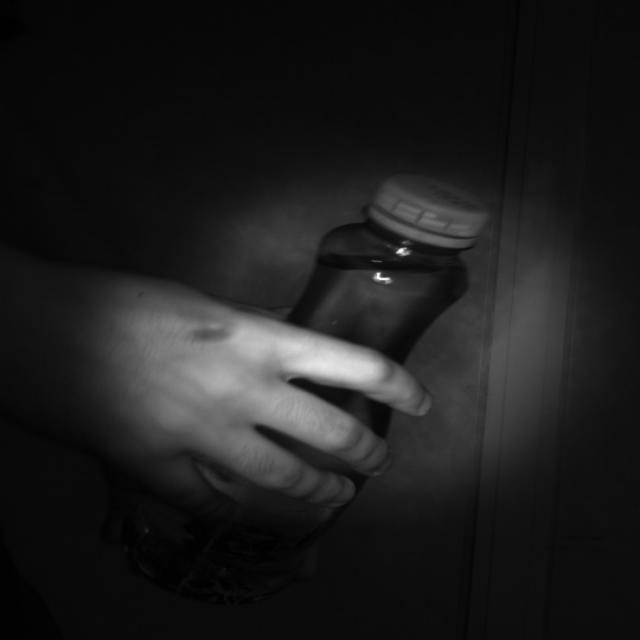Not Good: (370, 171, 488, 251)
